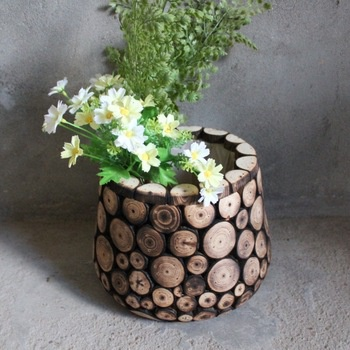flowerpot: (95, 126, 272, 321)
